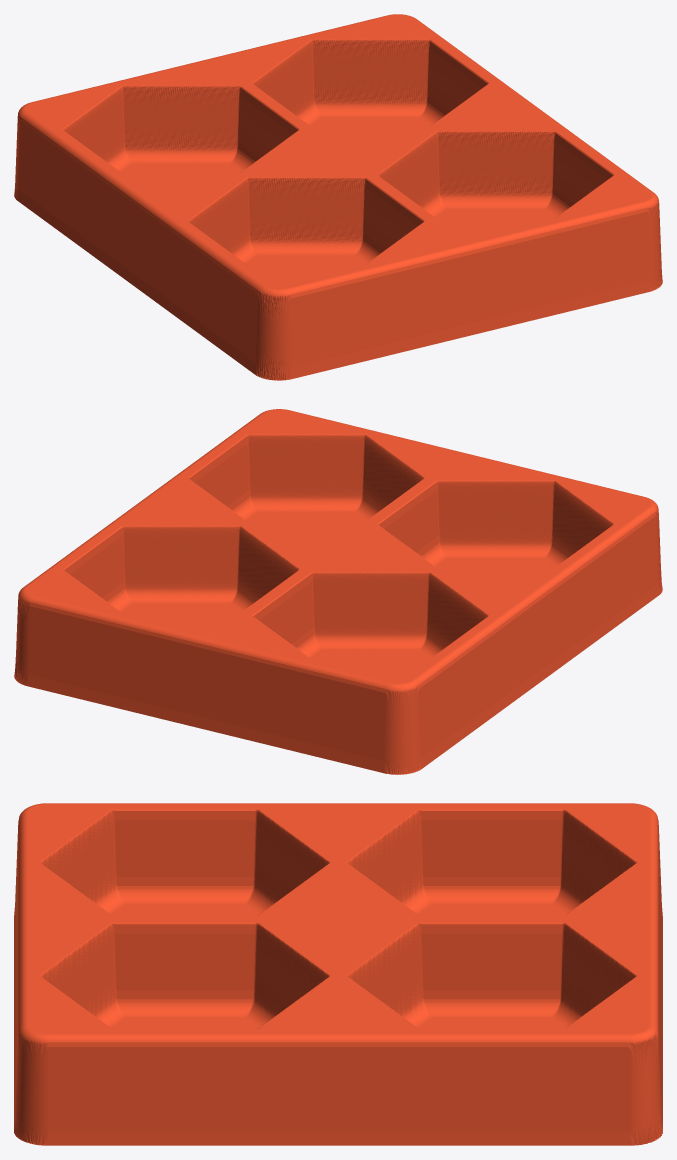
File: mold.glb
3 renders of one model, top to bottom at view 1: azimuth 30°, elevation 25°; view 2: azimuth 150°, elevation 25°; view 3: azimuth 270°, elevation 25°, orthographic. The views are drawn at different scales.
Visible parts, largest first — view 1: geometry_0; view 2: geometry_0; view 3: geometry_0.
Part boxes in pixels (x1,y1,x2,y2): geometry_0: [14, 14, 662, 380]; geometry_0: [14, 409, 662, 774]; geometry_0: [14, 803, 662, 1145].
Bounding box in the file's own units: 0.1516 × 0.031 × 0.1721.
